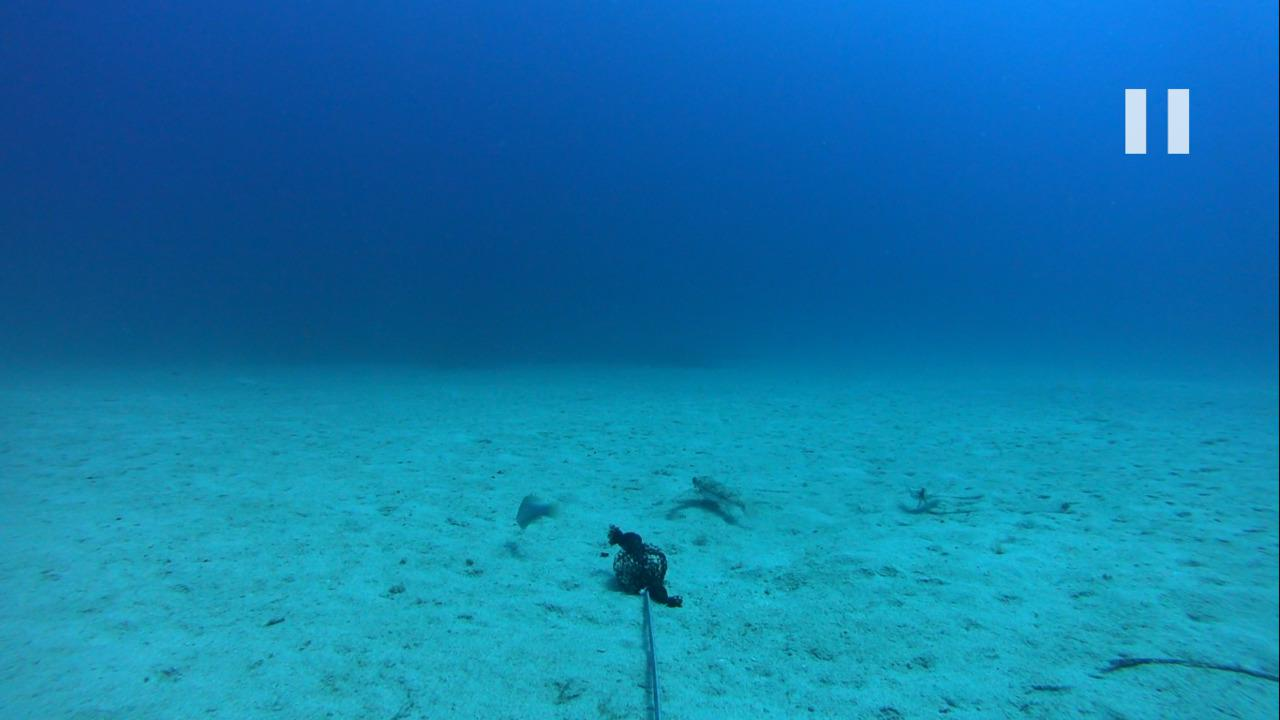bothus: (987, 494, 1075, 515)
dactylopterus: (662, 470, 767, 528), (892, 484, 1004, 512)
raor: (503, 484, 560, 534)
